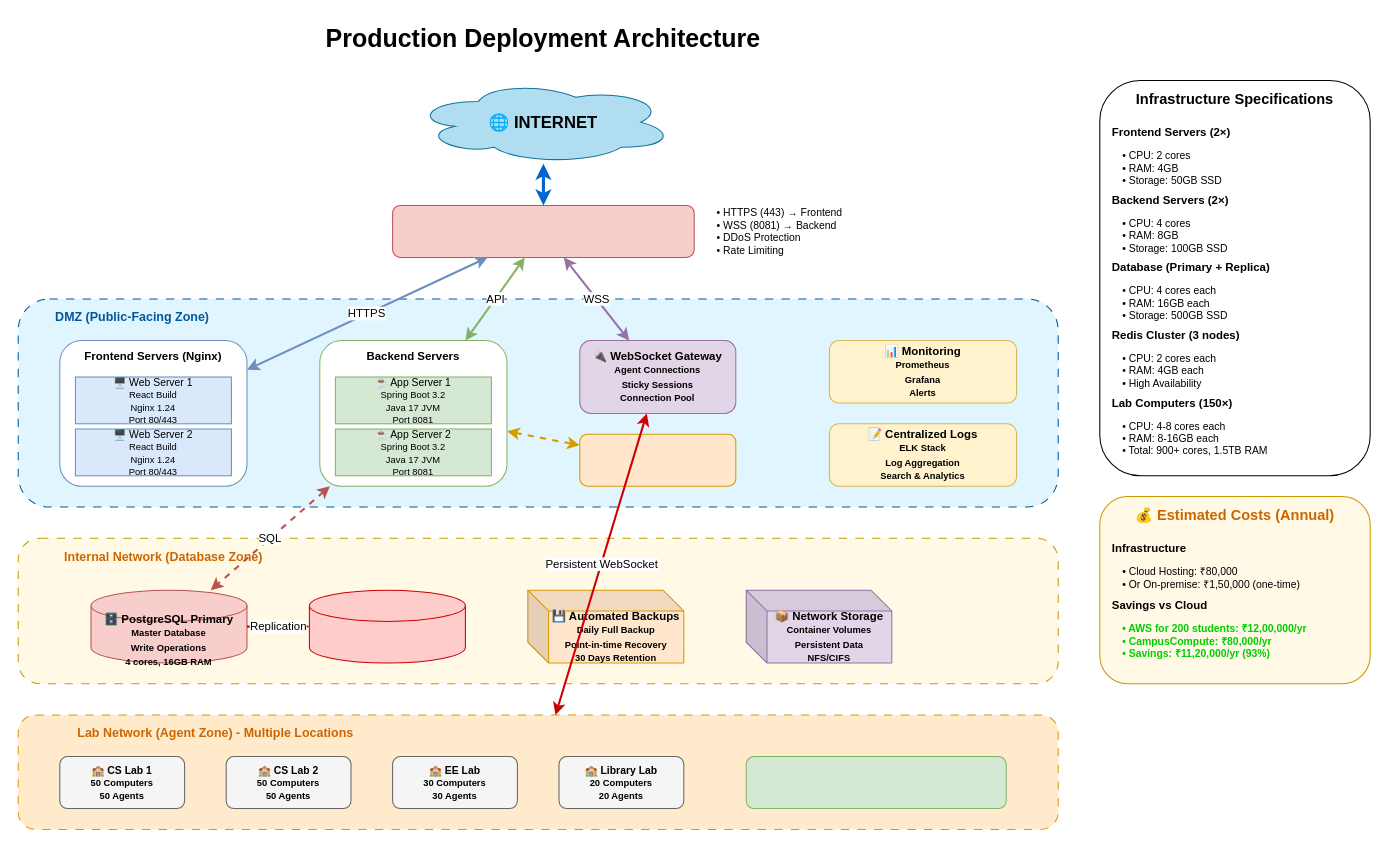
Image size: 1388x848. Some labels were removed from this diagram. The shapes that lost their labels are listed below. From the top down, each one's centre as x and y in pixels, then its label:
[543,230]: 🔥 FIREWALL / Load Balancer
[657,459]: 💾 Redis Cluster Session Storage WebSocket State 3 Nodes (HA)
[386,626]: 🗄️ PostgreSQL Replica Read Replica Read Operations 4 cores, 16GB RAM
[875,782]: Total: 150 Devices
